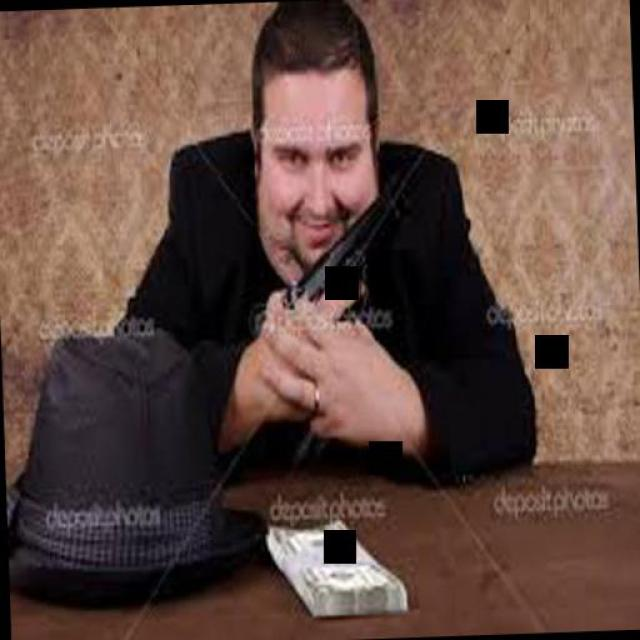gun: (278, 188, 388, 318)
